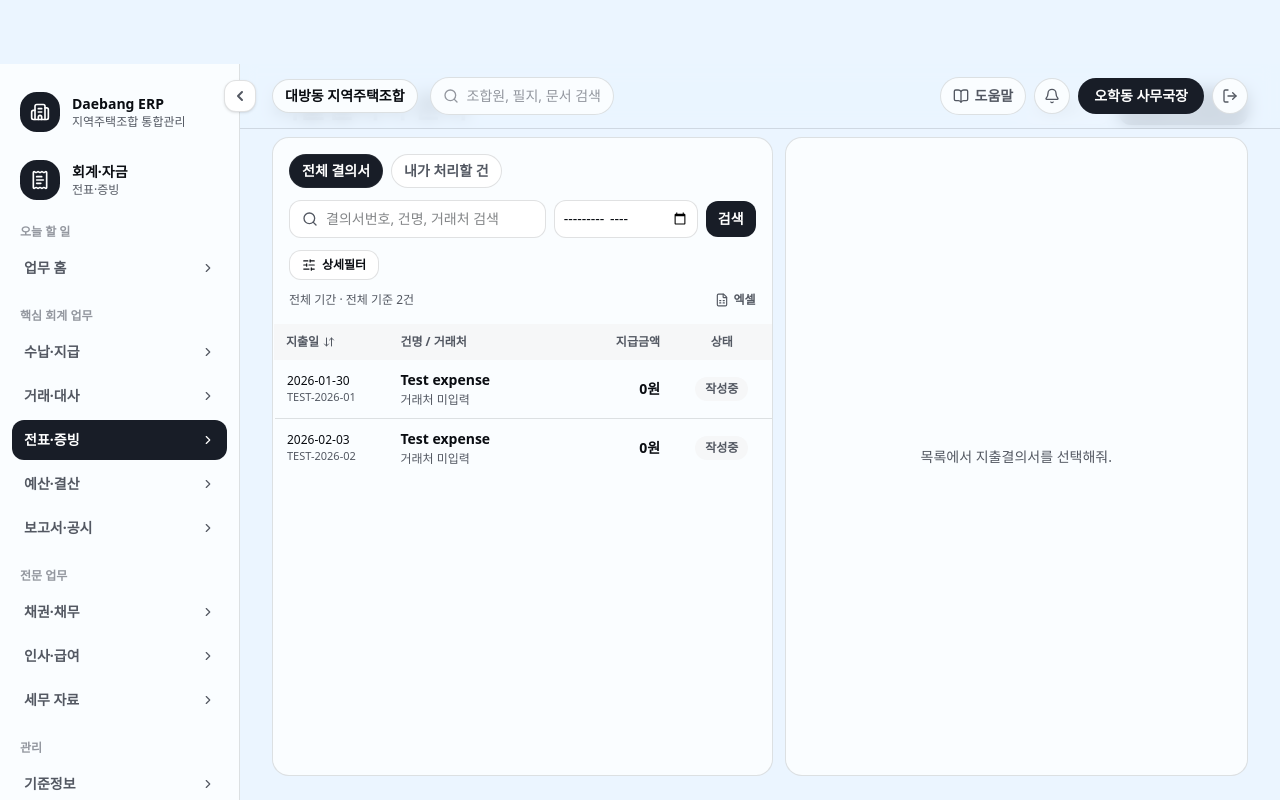
Scenario: ExpenseResolutionPage › filters expense resolutions by the actual expense month
Step 1. Type "2026-01" into the field named "지출결의 실제 지출월" → (626, 219), box [554, 200, 698, 238]
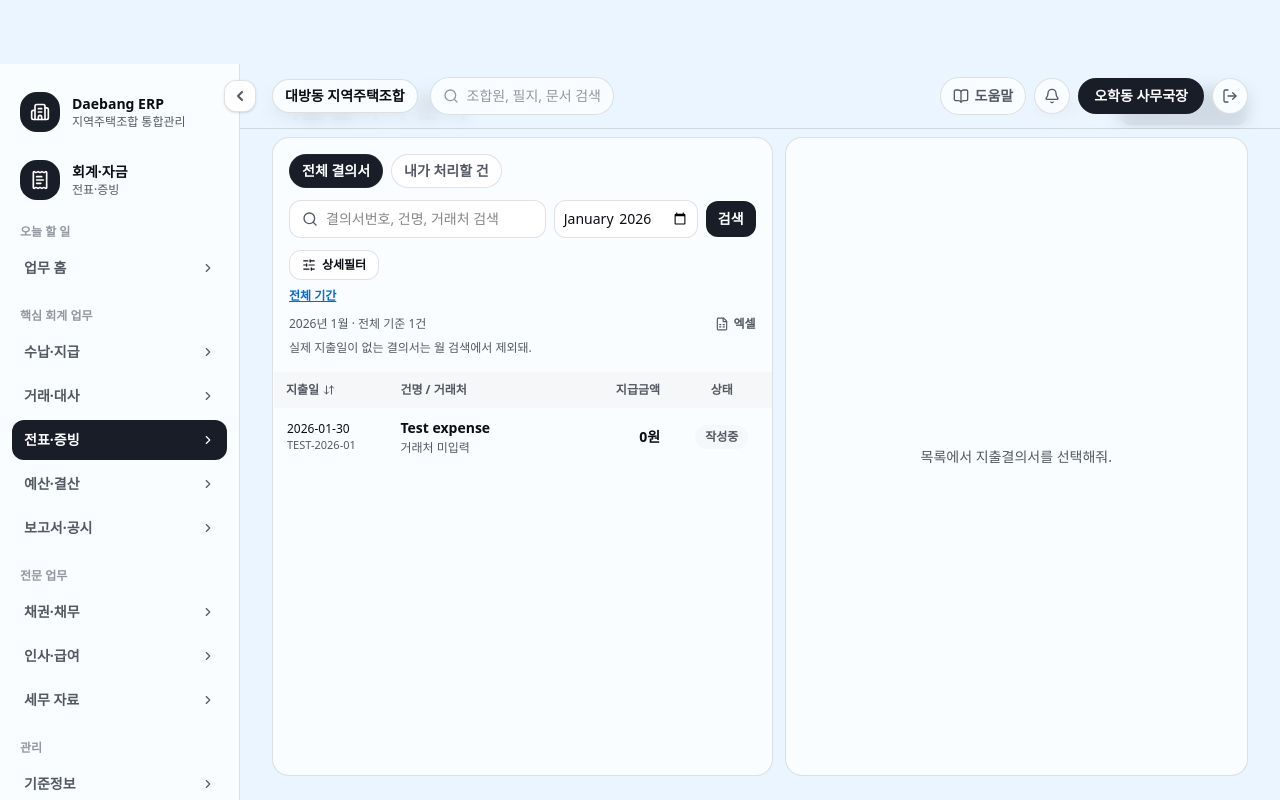
Check: the text "TEST-2026-02" is gone
Check: the text "2026년 1월 · 전체 기준 1건" is shown, box [289, 316, 426, 332]
Check: the text "실제 지출일이 없는 결의서는 월 검색에서 제외돼." is shown, box [289, 339, 532, 356]
